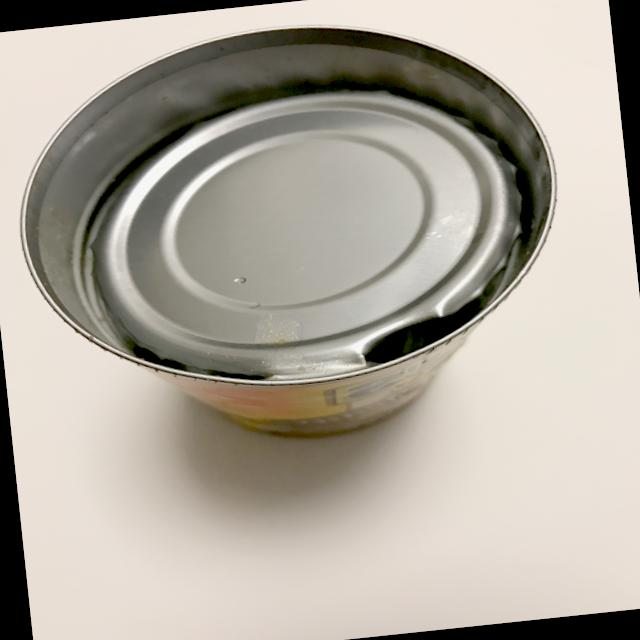Metal: (0, 0, 598, 481)
